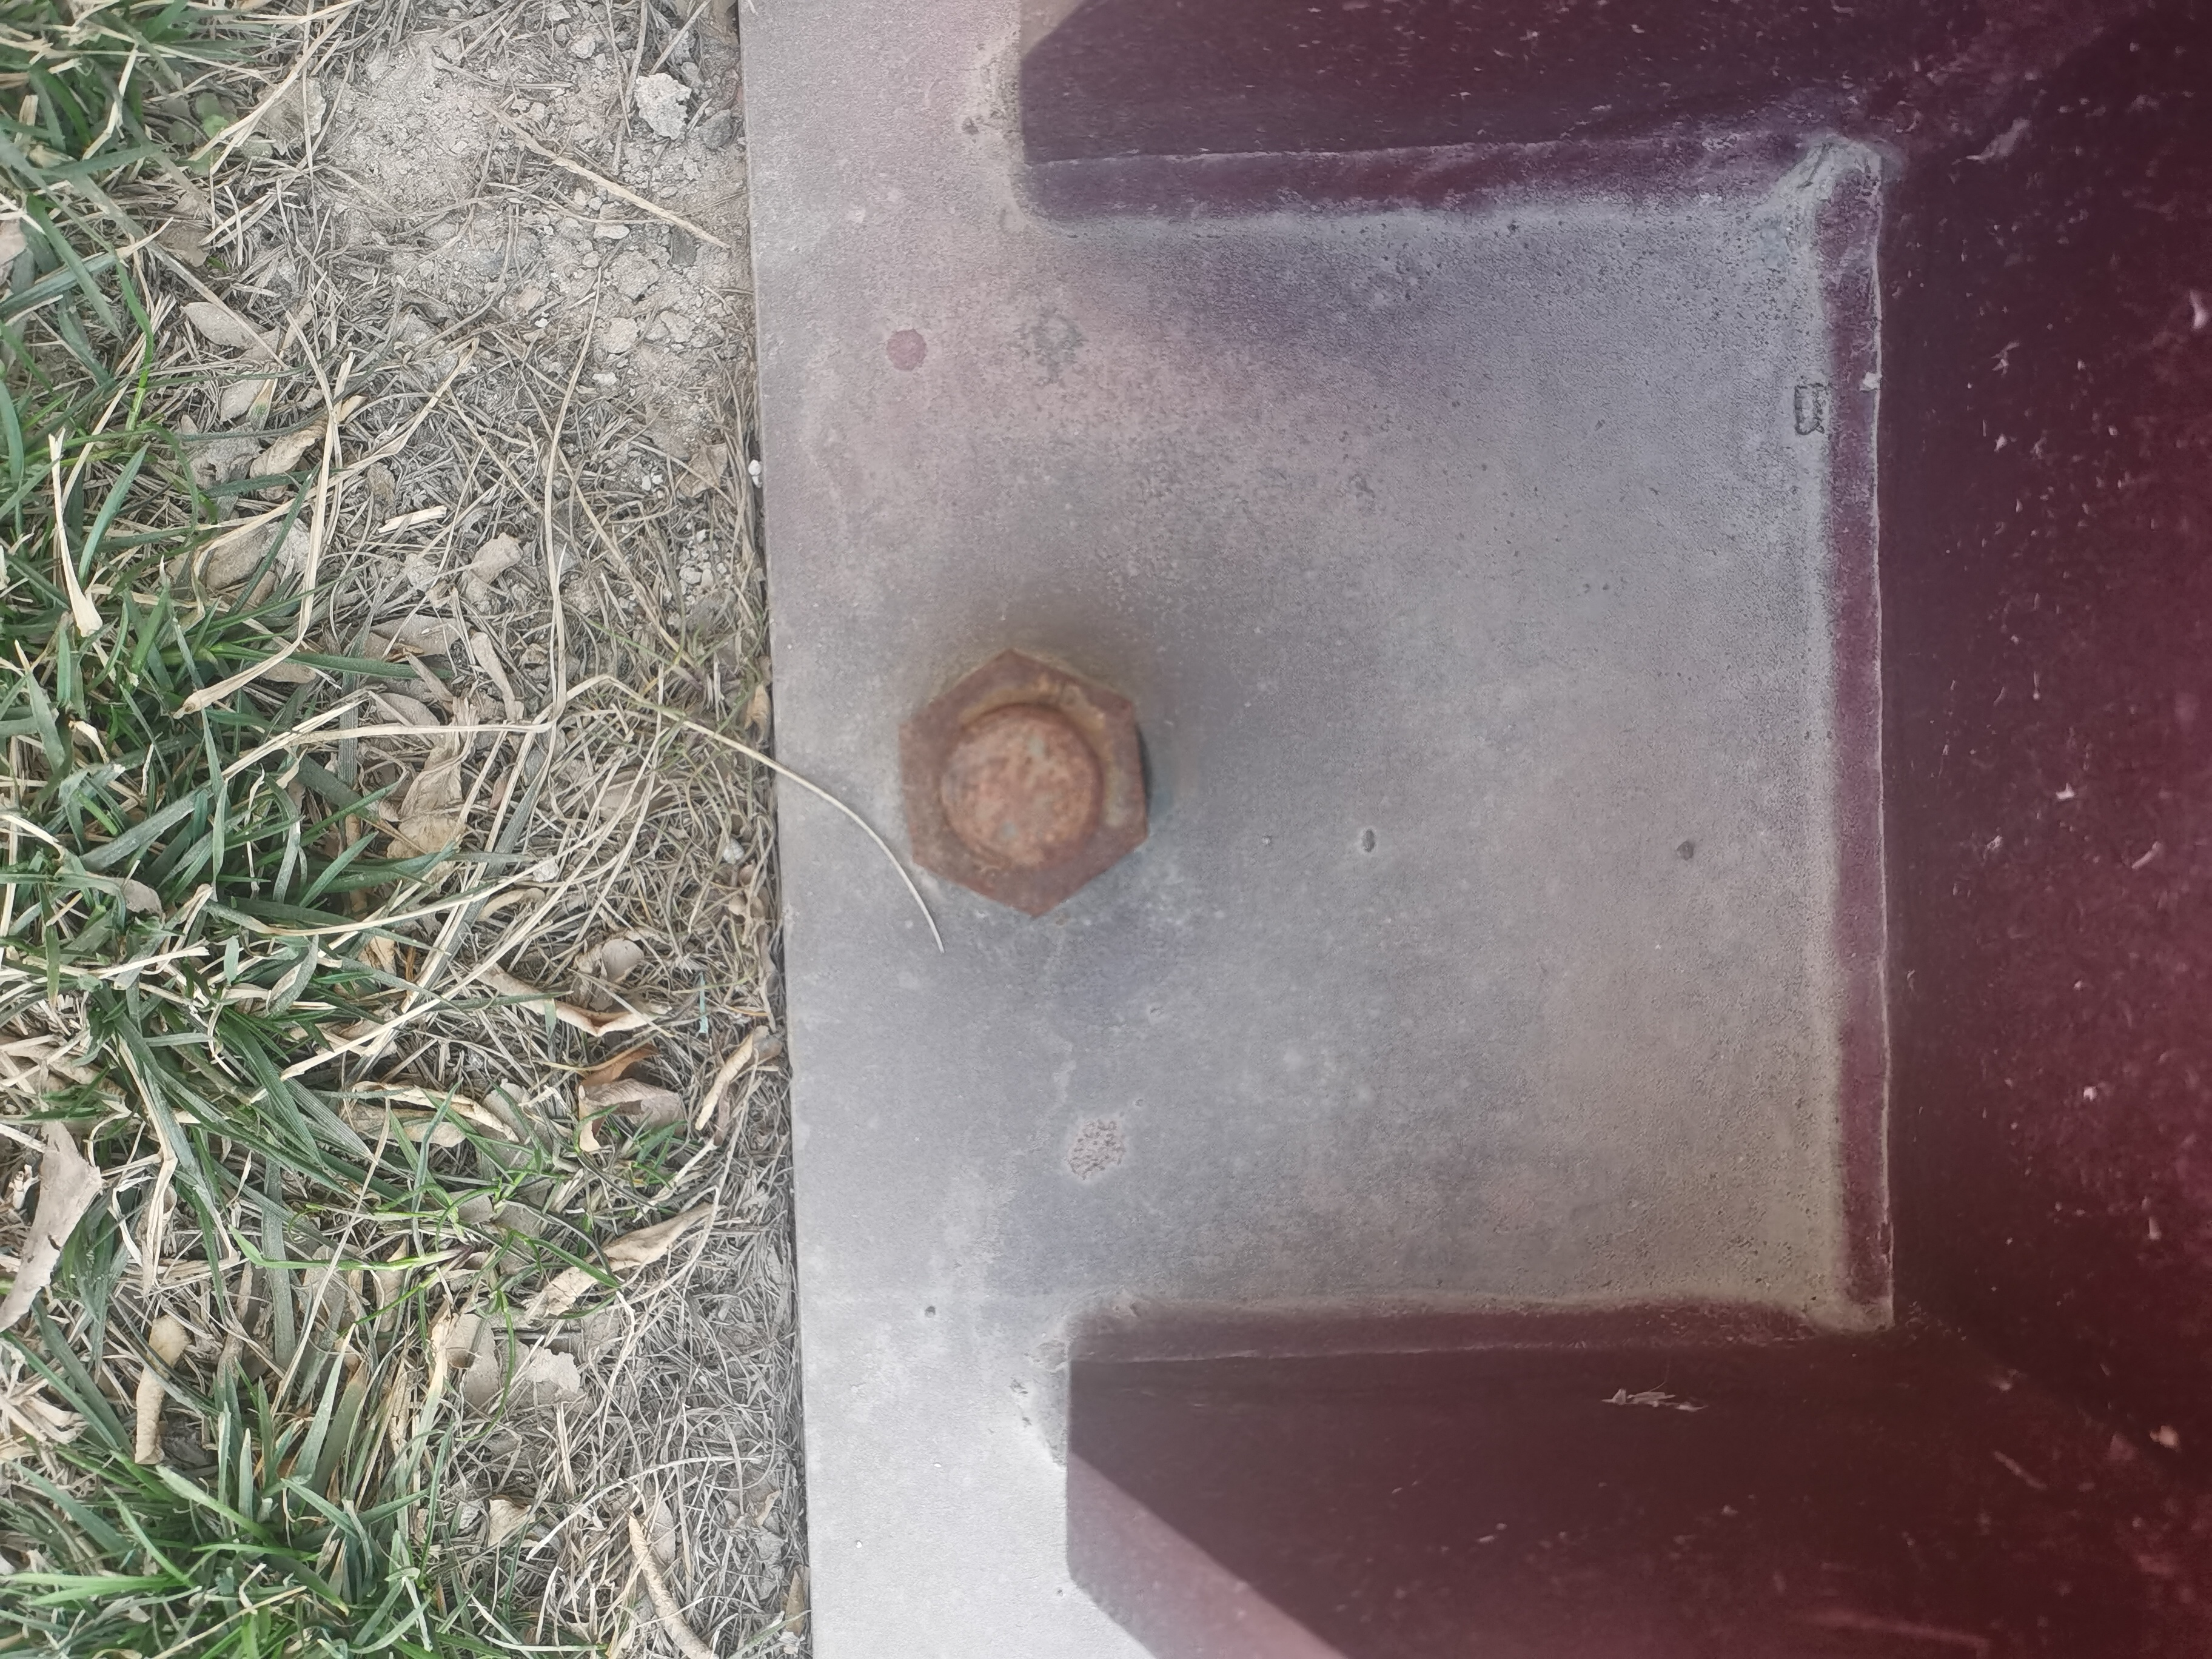bolt_b: (887, 636, 1162, 934)
